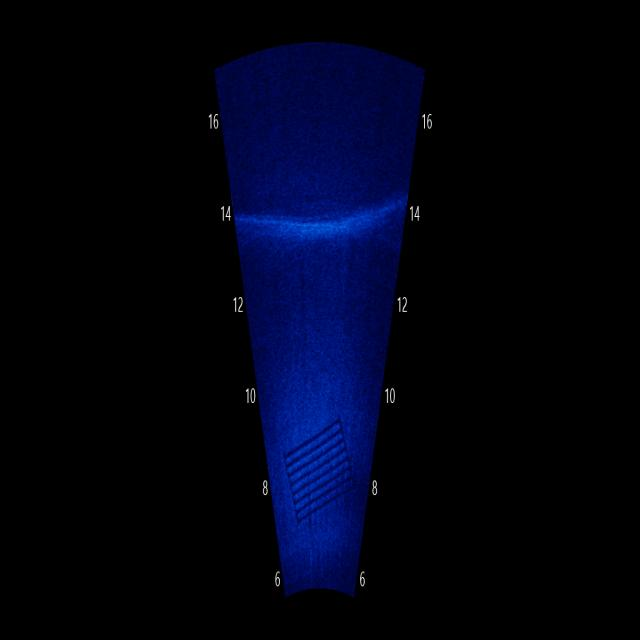square: (280, 407, 360, 538)
